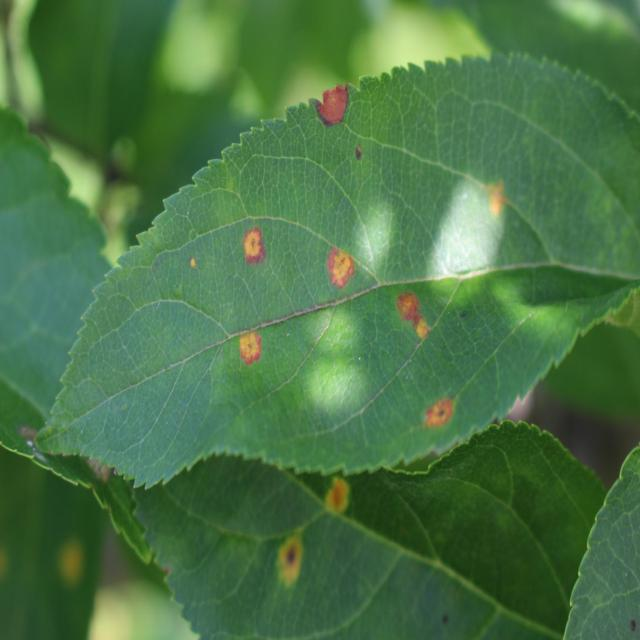Rust: (226, 315, 282, 386), (264, 515, 310, 601), (320, 221, 364, 310), (468, 164, 520, 234), (311, 64, 351, 149), (421, 380, 466, 449), (390, 280, 432, 348), (320, 457, 356, 531), (237, 207, 271, 280), (184, 252, 204, 278)
